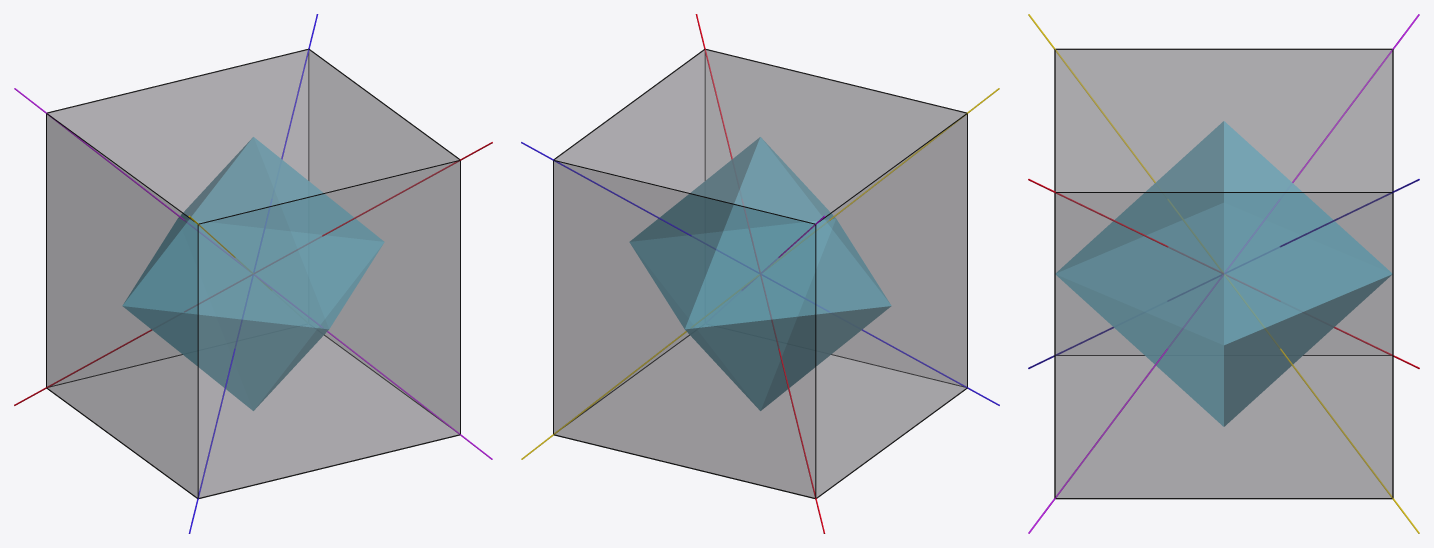
File: Hexa_tetra_2.glb
The picture shows the model from 3 angles, left to right: view 1: azimuth 30°, elevation 25°; view 2: azimuth 150°, elevation 25°; view 3: azimuth 270°, elevation 25°; orthographic projection. The views are drawn at different scales.
Parts seen in each view (by area): view 1: Cube, Solid, Cube.001, Cylinder, Cylinder.002, Cylinder.001; view 2: Cube, Solid, Cube.001, Cylinder.003, Cylinder.002, Cylinder.001; view 3: Cube, Solid, Cube.001, Cylinder, Cylinder.003, Cylinder.002, Cylinder.001.
Boxes of the visible parts, x1,y1,x2,y2 form: Cube: (47,49,459,497); Solid: (122,137,384,410); Cube.001: (46,48,460,499); Cylinder: (14,88,492,459); Cylinder.002: (14,142,492,405); Cylinder.001: (188,14,318,533); Cube: (554,50,966,497); Solid: (629,137,891,410); Cube.001: (553,49,967,498); Cylinder.003: (521,88,999,459); Cylinder.002: (695,14,825,533); Cylinder.001: (521,142,999,405); Cube: (1055,49,1392,497); Solid: (1056,121,1391,426); Cube.001: (1054,48,1393,499); Cylinder: (1028,14,1419,533); Cylinder.003: (1028,14,1419,533); Cylinder.002: (1028,179,1419,368); Cylinder.001: (1028,179,1419,368).
Bounding box in the file's own units: 2.32 × 2.32 × 2.32.
